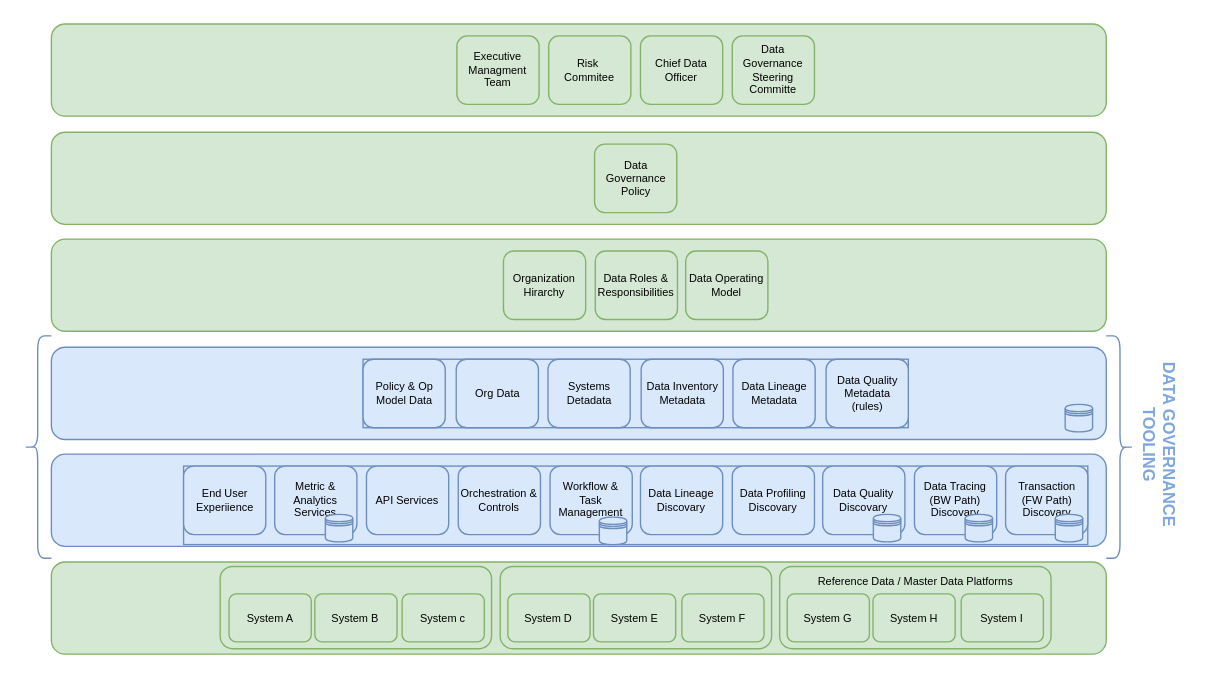
Some shapes in this 1223 by 678 pixel diagram are drawn without their labels. Here are the shapes that lost their labels. From the top down, the box of each, then its label:
(50, 23, 1106, 116): LAYER 6 Data Governance Oversight
(50, 131, 1106, 224): LAYER 5 Data Governance Policy
(50, 238, 1106, 331): LAYER 4 Data Governance Operating Model
(50, 346, 1106, 439): LAYER 3 Data Governance Metadata
(50, 453, 1106, 546): LAYER 2 Data Governance Capabilities
(219, 565, 492, 649): Business Operating Platforms
(50, 561, 1106, 654): LAYER 1 Business & Data Services
(499, 565, 772, 649): Business Consolidation & Reporting Platforms
